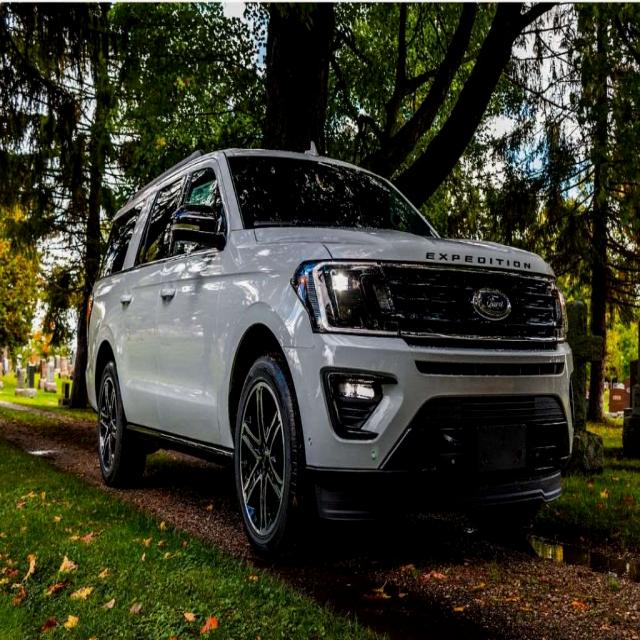SUV: (81, 140, 573, 556)
